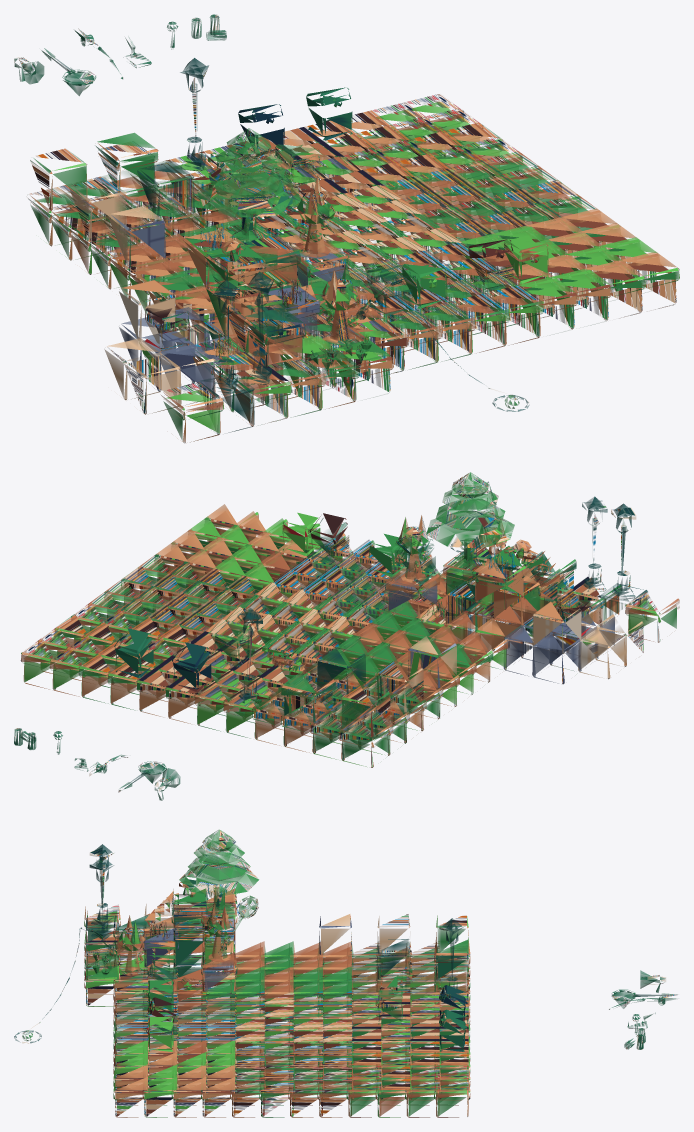
Rendered from tutto.glb.
3 views of the same model, one above another, from view 1: azimuth 30°, elevation 25°; view 2: azimuth 150°, elevation 25°; view 3: azimuth 270°, elevation 25° (orthographic). The views are drawn at different scales.
Visible parts, largest first — view 1: beveled_cuboid; view 2: beveled_cuboid; view 3: beveled_cuboid.
Boxes of the visible parts, x1=… form: beveled_cuboid: x1=14, y1=14, x2=679, y2=443; beveled_cuboid: x1=14, y1=472, x2=679, y2=800; beveled_cuboid: x1=14, y1=829, x2=677, y2=1117.
Size of the model in its own units: 15.25 by 6.16 by 22.85.
Materials: 1 (1 with a texture image).
